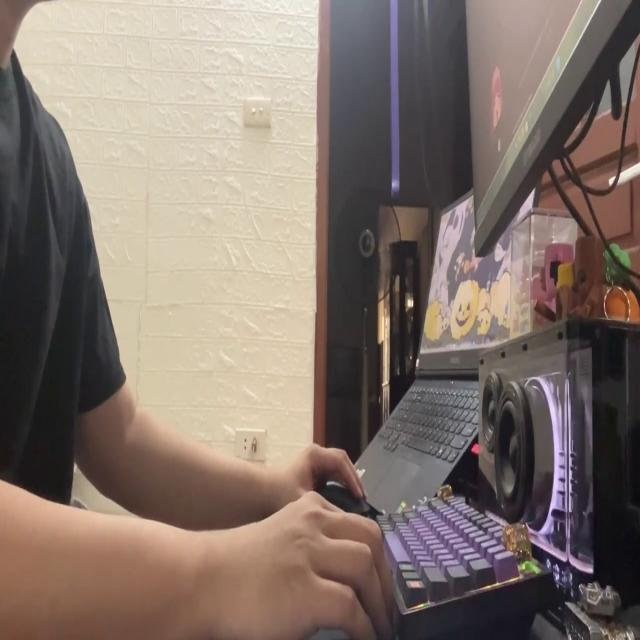laptop: (339, 167, 538, 524), (465, 0, 640, 246)
student: (1, 0, 393, 640)
